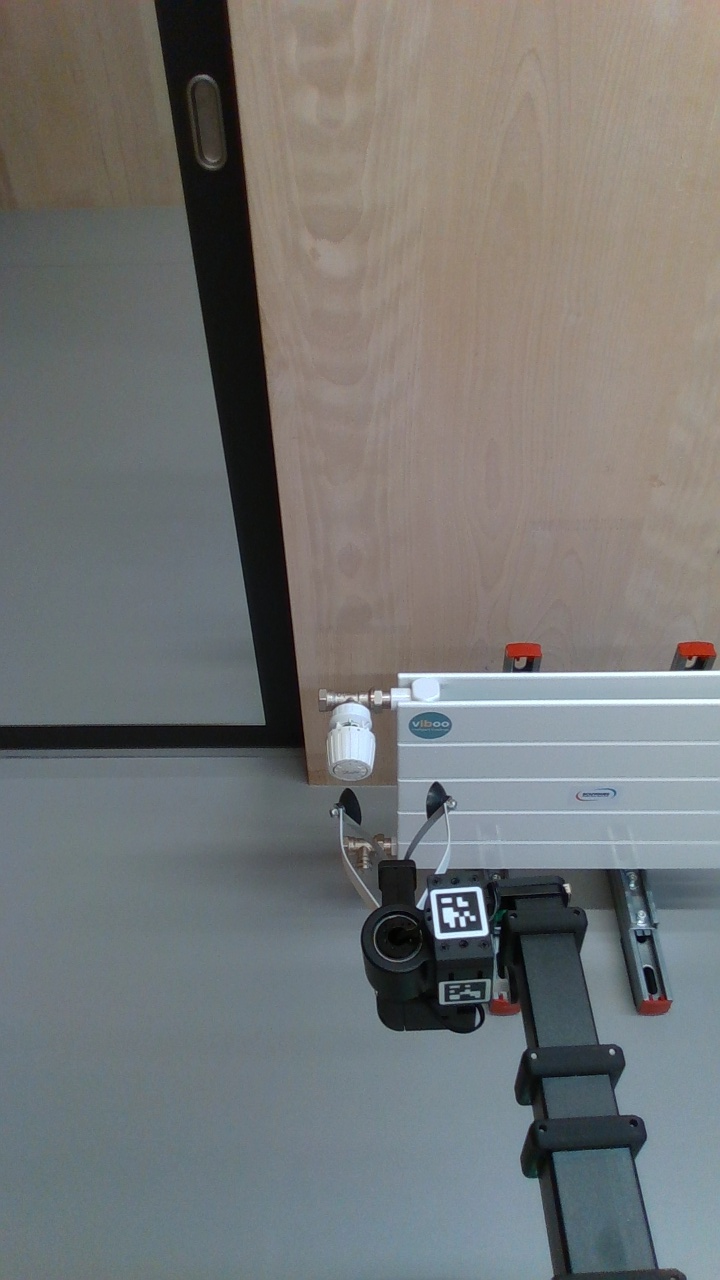Knob_Radiator: (315, 704, 387, 789)
Radiator: (386, 667, 720, 872)
